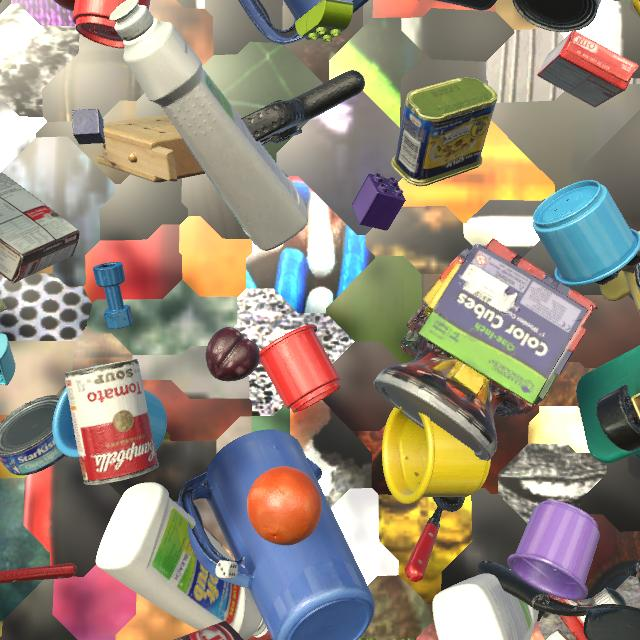ycb_005_tomato_soup_can: (65, 359, 159, 485)
ycb_007_tuna_fish_can: (0, 395, 65, 475), (513, 0, 601, 32)
ycb_008_pudding_box: (0, 173, 80, 284), (174, 620, 244, 640), (545, 629, 570, 640)
ycb_009_gelatin_box: (537, 30, 639, 107)
ycb_010_potted_meat_can: (391, 78, 497, 186)
ycb_014_lemon: (0, 0, 2, 3)
ycb_017_orange: (247, 466, 322, 546), (54, 0, 75, 11)
ycb_018_plum: (205, 327, 260, 381)
